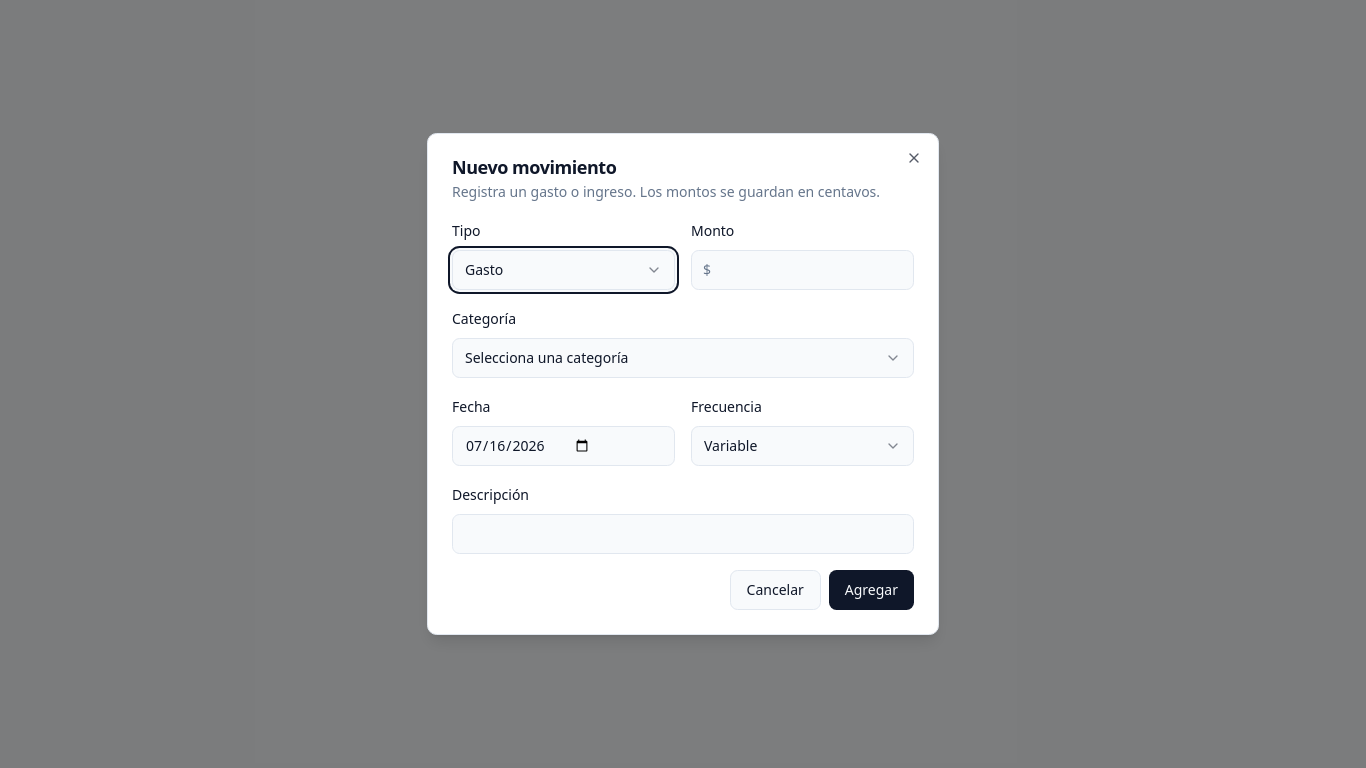
Test case: EntryForm income has no category › hides the category field when the type is income
The width and height of the screenshot is (1366, 768).
Expected: the dropdown labelled "categoría" is shown, [452,338,914,378]
Click the dropdown named "Tipo" at (564, 270), box [452,250,675,290]
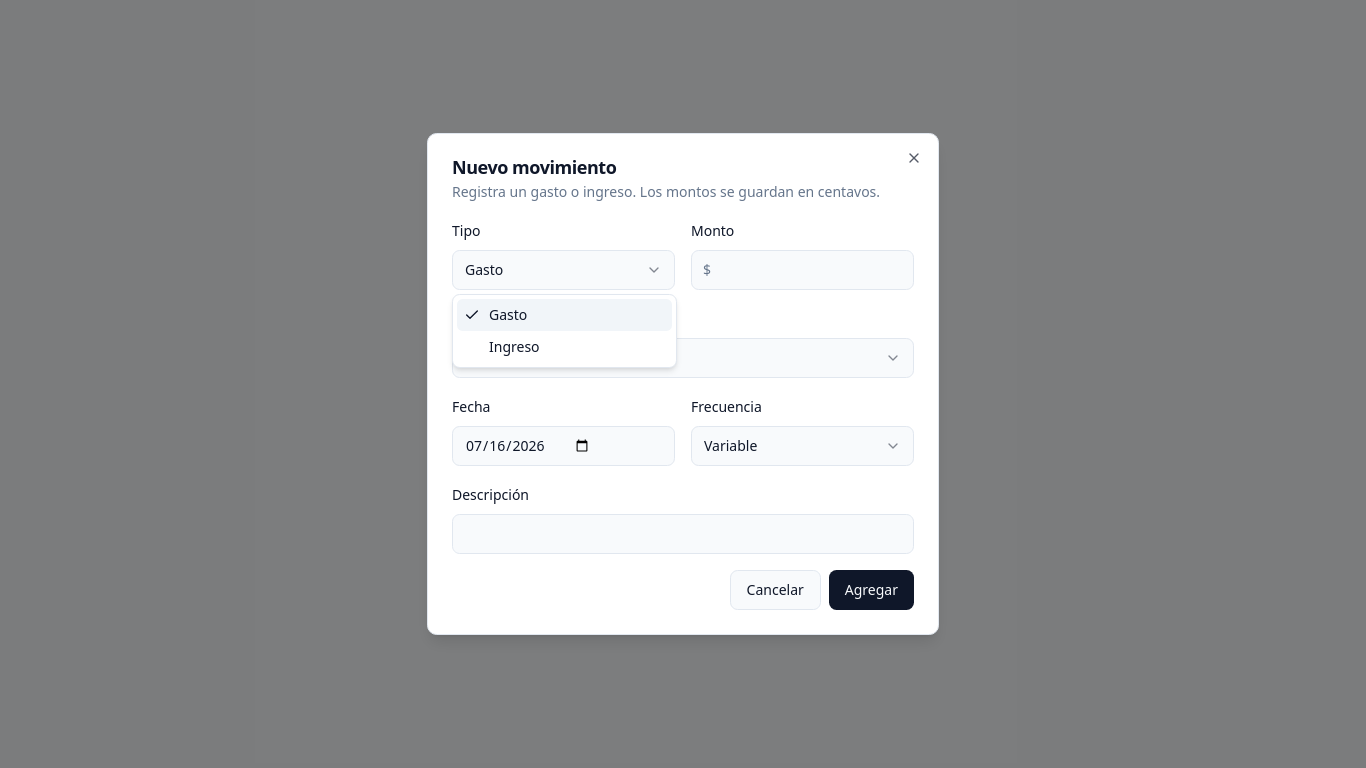
Click the option "Ingreso" at (514, 346), box [489,337,540,356]
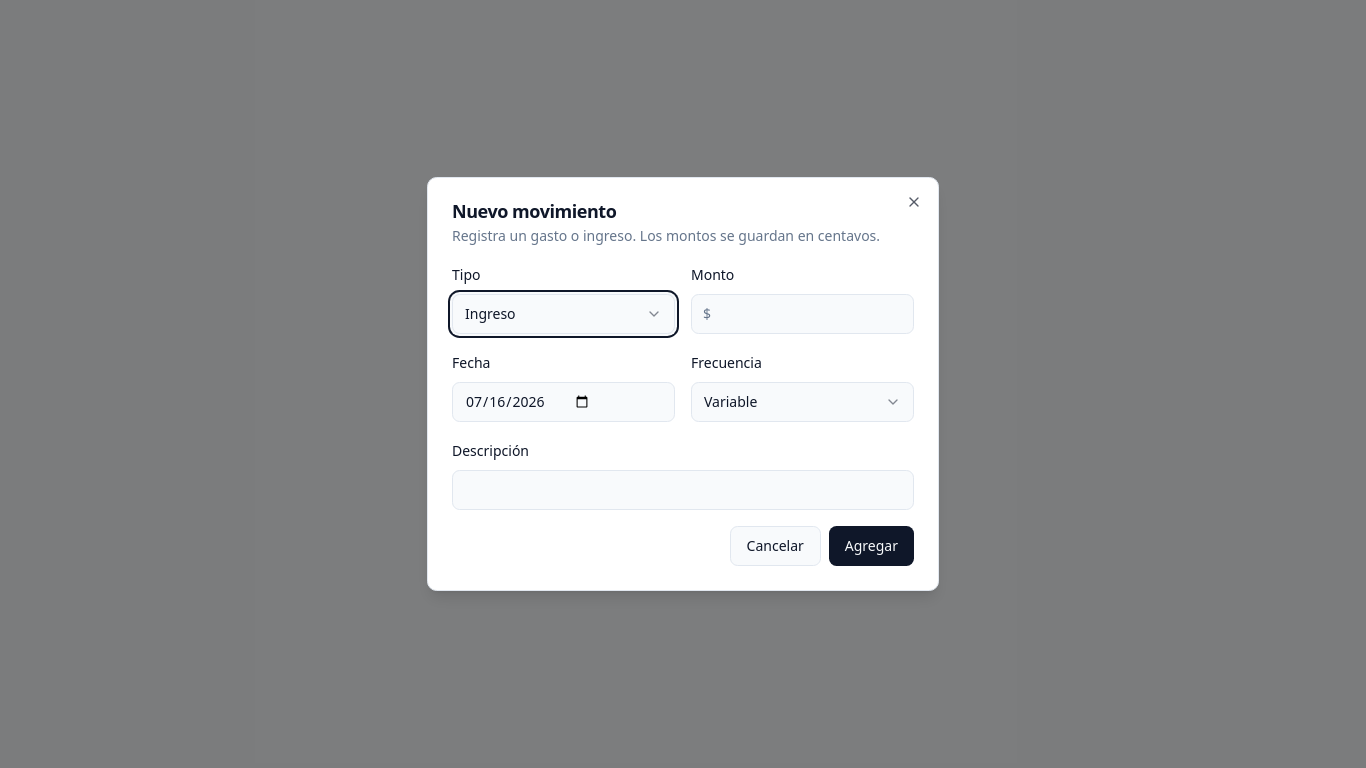
Expected: the label labelled "Categoría" is gone
